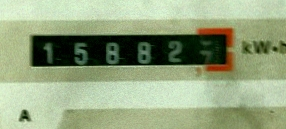1: (41, 40, 55, 65)
2: (167, 37, 183, 63)
5: (72, 40, 88, 65)
7: (198, 47, 212, 63)
8: (103, 40, 120, 64), (135, 38, 151, 63)
screen: (17, 20, 243, 80)
